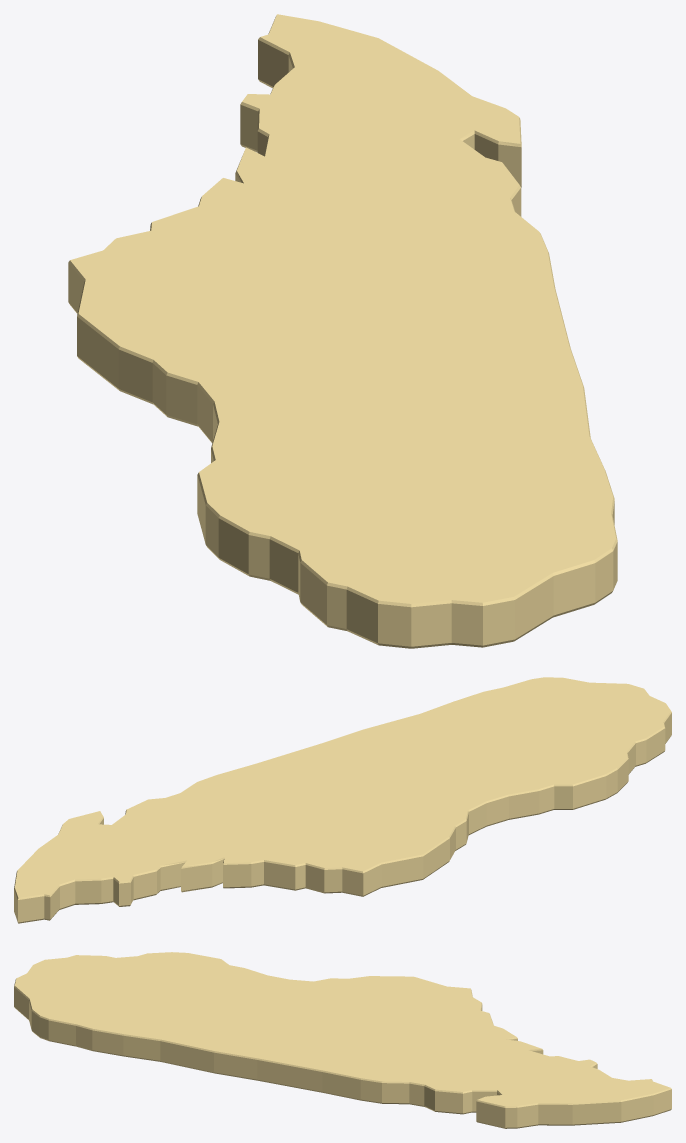
Rendered from MDG.glb.
3 renders of one model, top to bottom at view 1: azimuth 30°, elevation 25°; view 2: azimuth 150°, elevation 25°; view 3: azimuth 270°, elevation 25°, orthographic. The views are drawn at different scales.
Size of the model in its own units: 1.01 by 0.068 by 1.81.
